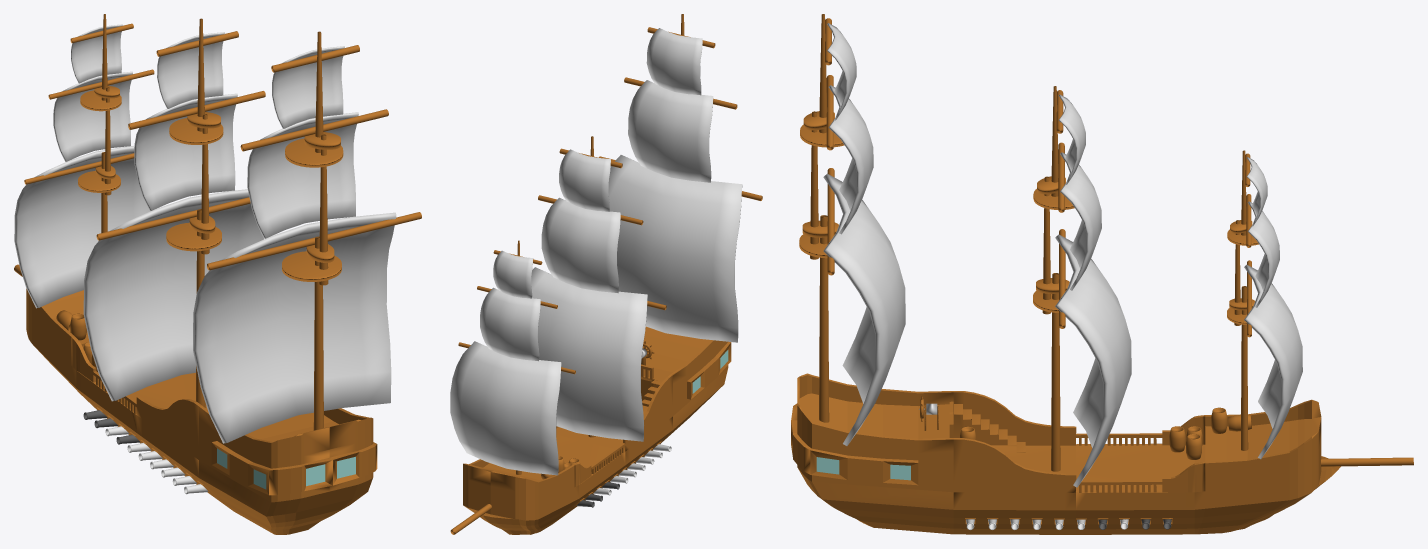
File: Barco.fbx
The picture shows the model from 3 angles, left to right: view 1: azimuth 30°, elevation 25°; view 2: azimuth 150°, elevation 25°; view 3: azimuth 270°, elevation 25°; orthographic projection. The views are drawn at different scales.
Visible parts, largest first — view 1: Plane.009, Plane, Plane.001, Plane.006, Plane.008, Plane.002, Plane.005, Plane.007, Plane.003, Plane.004, Cylinder.019, Cylinder.030 (+20 smaller); view 2: Plane.009, Plane, Plane.001, Plane.006, Plane.008, Plane.002, Plane.005, Plane.007, Plane.003, Plane.004; view 3: Plane, Plane.009, Plane.001, Plane.006, Plane.008, Plane.002, Cylinder.030, Cylinder, Plane.005, Plane.007, Plane.003, Cylinder.016 (+2 smaller).
Part boxes in pixels (x1,y1,x2,y2): Plane.009: (193, 212, 396, 443); Plane: (26, 288, 377, 534); Plane.001: (83, 189, 263, 401); Plane.006: (14, 145, 150, 308); Plane.008: (247, 112, 358, 238); Plane.002: (134, 93, 237, 210); Plane.005: (53, 71, 132, 161); Plane.007: (272, 46, 344, 128); Plane.003: (157, 32, 224, 108); Plane.004: (71, 24, 123, 83); Cylinder.019: (207, 212, 421, 270); Cylinder.030: (313, 236, 323, 430); Plane.009: (608, 155, 742, 342); Plane: (463, 326, 731, 534); Plane.001: (531, 267, 647, 441); Plane.006: (450, 341, 561, 475); Plane.008: (628, 80, 713, 182); Plane.002: (541, 197, 620, 293); Plane.005: (480, 287, 540, 361); Plane.007: (646, 28, 702, 95); Plane.003: (559, 149, 610, 211); Plane.004: (493, 250, 533, 298); Plane: (791, 373, 1340, 534); Plane.009: (823, 173, 905, 445); Plane.001: (1055, 234, 1131, 487); Plane.006: (1244, 264, 1302, 459); Plane.008: (828, 85, 873, 234); Plane.002: (1060, 152, 1101, 290); Cylinder.030: (819, 215, 829, 422); Cylinder: (1051, 273, 1060, 471); Plane.005: (1248, 201, 1279, 307); Plane.007: (827, 23, 856, 120); Plane.003: (1058, 94, 1085, 184); Cylinder.016: (1241, 286, 1248, 450).
Size of the model in its own units: 654 by 1548 by 1700.
